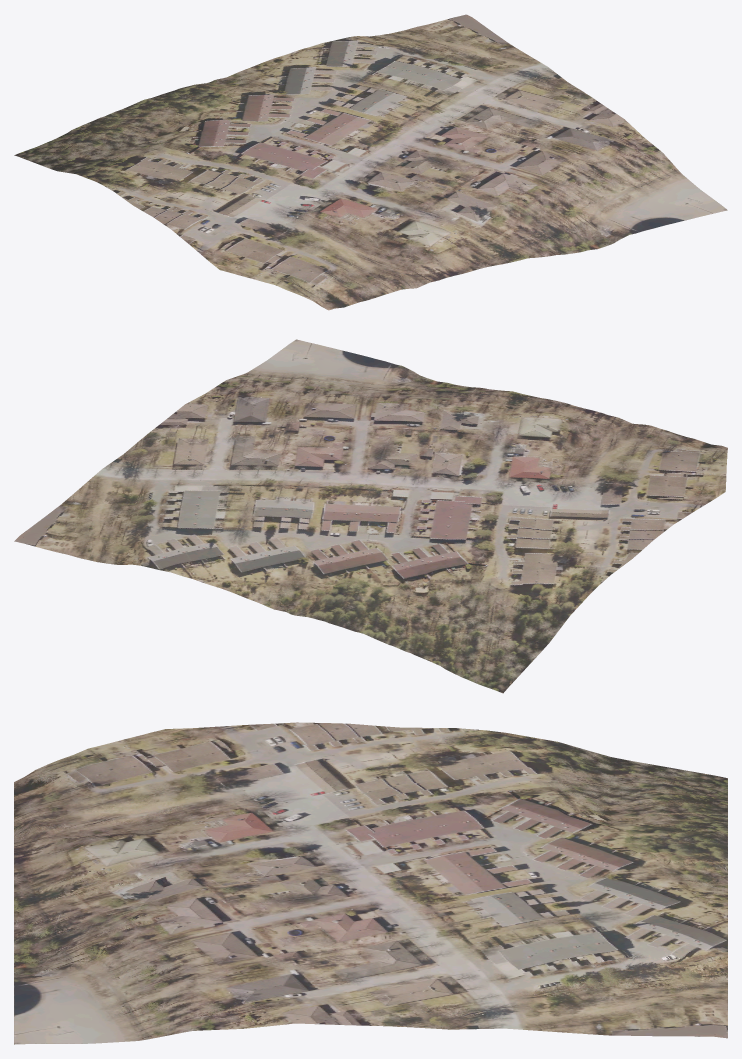
The model's file is CM_Terrain_24490868_6816108.fbx.
3 views of the same model, one above another, from view 1: azimuth 30°, elevation 25°; view 2: azimuth 150°, elevation 25°; view 3: azimuth 270°, elevation 25° (orthographic). The views are drawn at different scales.
Visible parts, largest first — view 1: CM_Terrain_24490868_6816108_LOD0; view 2: CM_Terrain_24490868_6816108_LOD0; view 3: CM_Terrain_24490868_6816108_LOD0.
Boxes of the visible parts, x1,y1,x2,y2 form: CM_Terrain_24490868_6816108_LOD0: (14, 14, 727, 310); CM_Terrain_24490868_6816108_LOD0: (14, 339, 727, 693); CM_Terrain_24490868_6816108_LOD0: (14, 722, 727, 1044).
Size of what is drawn, in the model's own units: 205 by 18.89 by 205.
